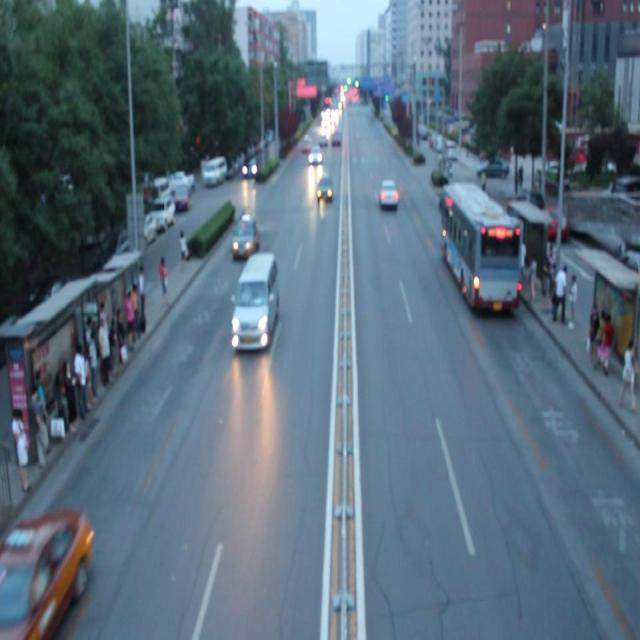car: (1, 511, 95, 640), (230, 214, 258, 254), (377, 179, 399, 210), (316, 174, 332, 202), (307, 143, 323, 163)
truck: (235, 253, 278, 348)
van: (438, 180, 523, 320)
